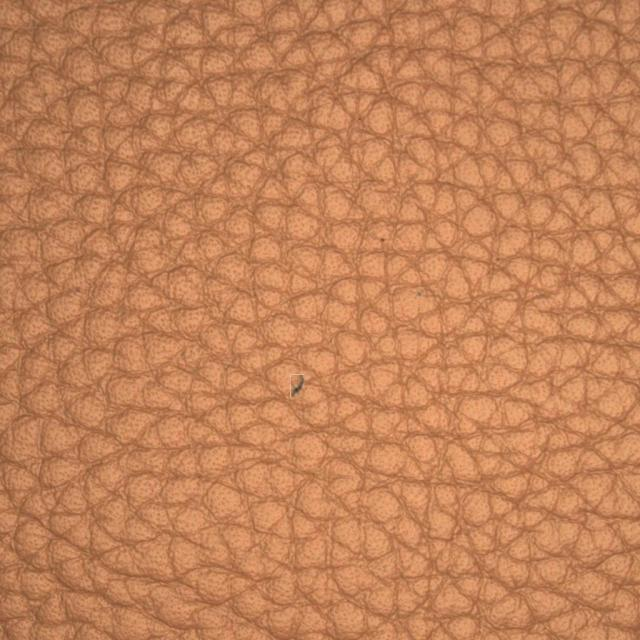Scratch: (242, 290, 362, 475)
